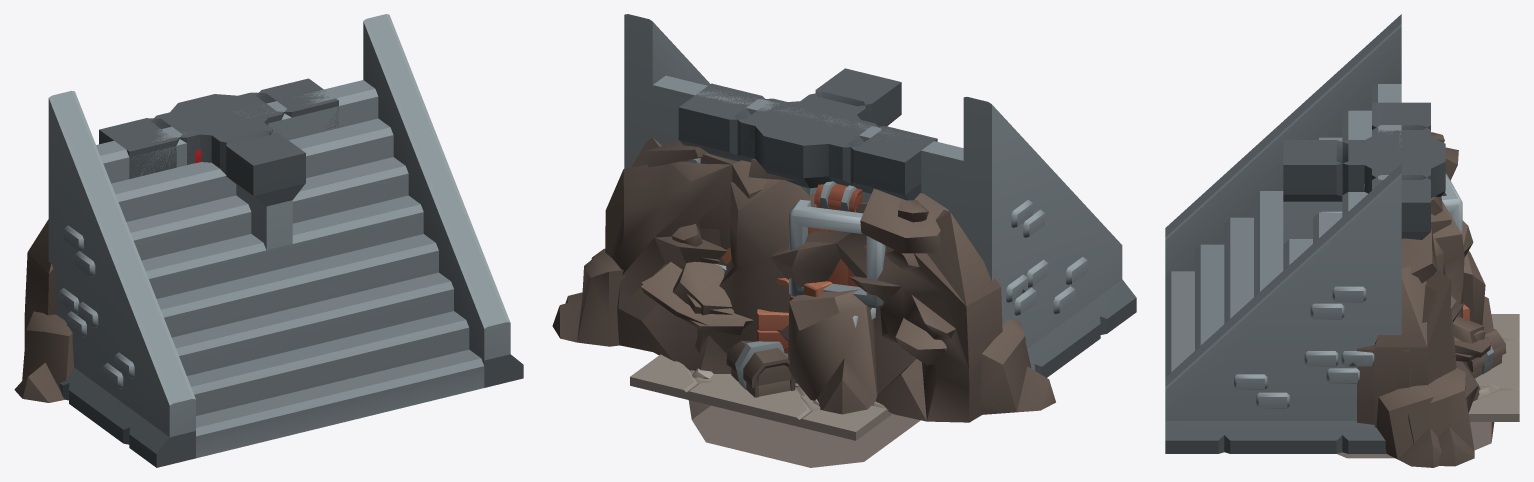
Rendered from dungeon.glb.
The picture shows the model from 3 angles, left to right: view 1: azimuth 30°, elevation 25°; view 2: azimuth 150°, elevation 25°; view 3: azimuth 270°, elevation 25°; orthographic projection. The views are drawn at different scales.
Parts seen in each view (by area): view 1: stairs_wide, wall_corner, wall, rubble_large, wall_pillar, pillar; view 2: rubble_large, stairs_wide, rubble_half, wall, box_stacked, floor_tile_big_grate, floor_tile_large, wall_pillar, wall_corner, pillar, crates_stacked, floor_dirt_large (+1 smaller); view 3: stairs_wide, rubble_half, rubble_large, wall_corner, wall, floor_tile_large, wall_pillar, box_stacked, floor_tile_big_grate.
Boxes of the visible parts, box(x1,y1,x2,y2) form: stairs_wide: box(48, 14, 523, 467); wall_corner: box(107, 116, 305, 250); wall: box(99, 78, 338, 178); rubble_large: box(14, 219, 73, 402); wall_pillar: box(157, 94, 281, 164); pillar: box(171, 96, 266, 134); rubble_large: box(565, 158, 1055, 422); stairs_wide: box(624, 14, 1136, 377); rubble_half: box(552, 137, 767, 373); wall: box(678, 83, 937, 200); box_stacked: box(715, 181, 885, 397); floor_tile_big_grate: box(688, 400, 920, 467); floor_tile_large: box(630, 354, 892, 440); wall_pillar: box(690, 99, 873, 202); wall_corner: box(780, 68, 918, 202); pillar: box(757, 104, 858, 191); crates_stacked: box(757, 281, 831, 355); floor_dirt_large: box(630, 368, 891, 439); stairs_wide: box(1165, 14, 1401, 453); rubble_half: box(1374, 211, 1490, 466); rubble_large: box(1357, 132, 1493, 467); wall_corner: box(1283, 105, 1430, 243); wall: box(1372, 102, 1430, 239); floor_tile_large: box(1468, 314, 1519, 421); wall_pillar: box(1364, 130, 1445, 197); box_stacked: box(1441, 173, 1506, 378); floor_tile_big_grate: box(1337, 422, 1494, 458).
Bounding box in the file's own units: 8.13 × 6.1 × 6.
Materials: 1 (1 with a texture image).
